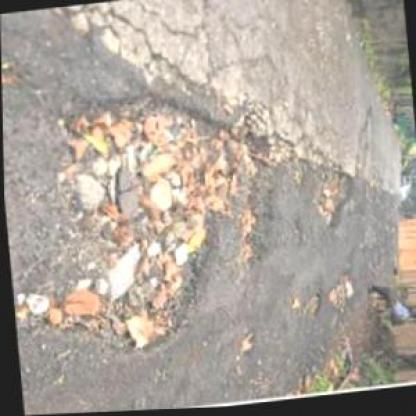pothole: (2, 75, 292, 370), (309, 164, 355, 236), (327, 272, 358, 316), (302, 296, 323, 320)
